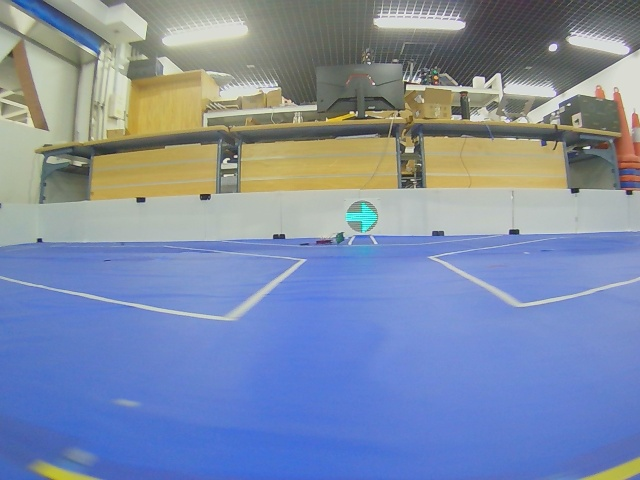right_green: (345, 201, 378, 233)
